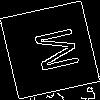M: (24, 25, 80, 76)
